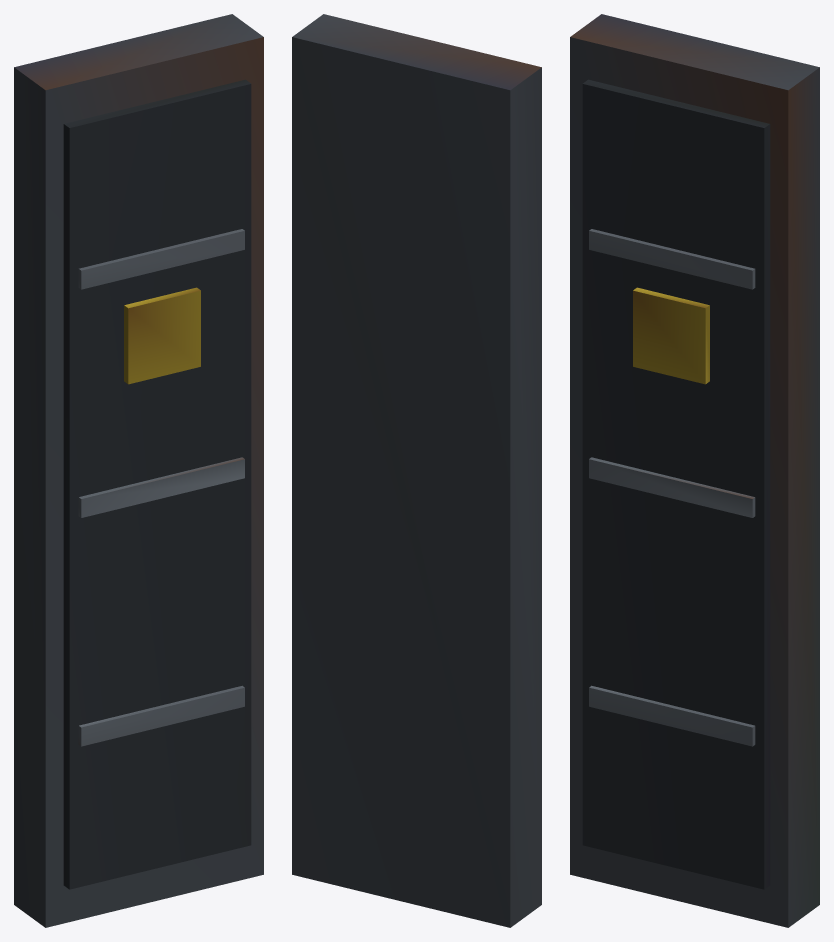
File: door_leaf.glb
3 views of the same model, side by side, from view 1: azimuth 30°, elevation 25°; view 2: azimuth 150°, elevation 25°; view 3: azimuth 330°, elevation 25° (orthographic).
Parts seen in each view (by area): view 1: door_leaf; view 2: door_leaf; view 3: door_leaf.
Part boxes in pixels (x1=…): door_leaf: x1=14, y1=14, x2=263, y2=927; door_leaf: x1=292, y1=14, x2=541, y2=927; door_leaf: x1=570, y1=14, x2=819, y2=927.
Size of the model in its own units: 24 by 88 by 7.9.
